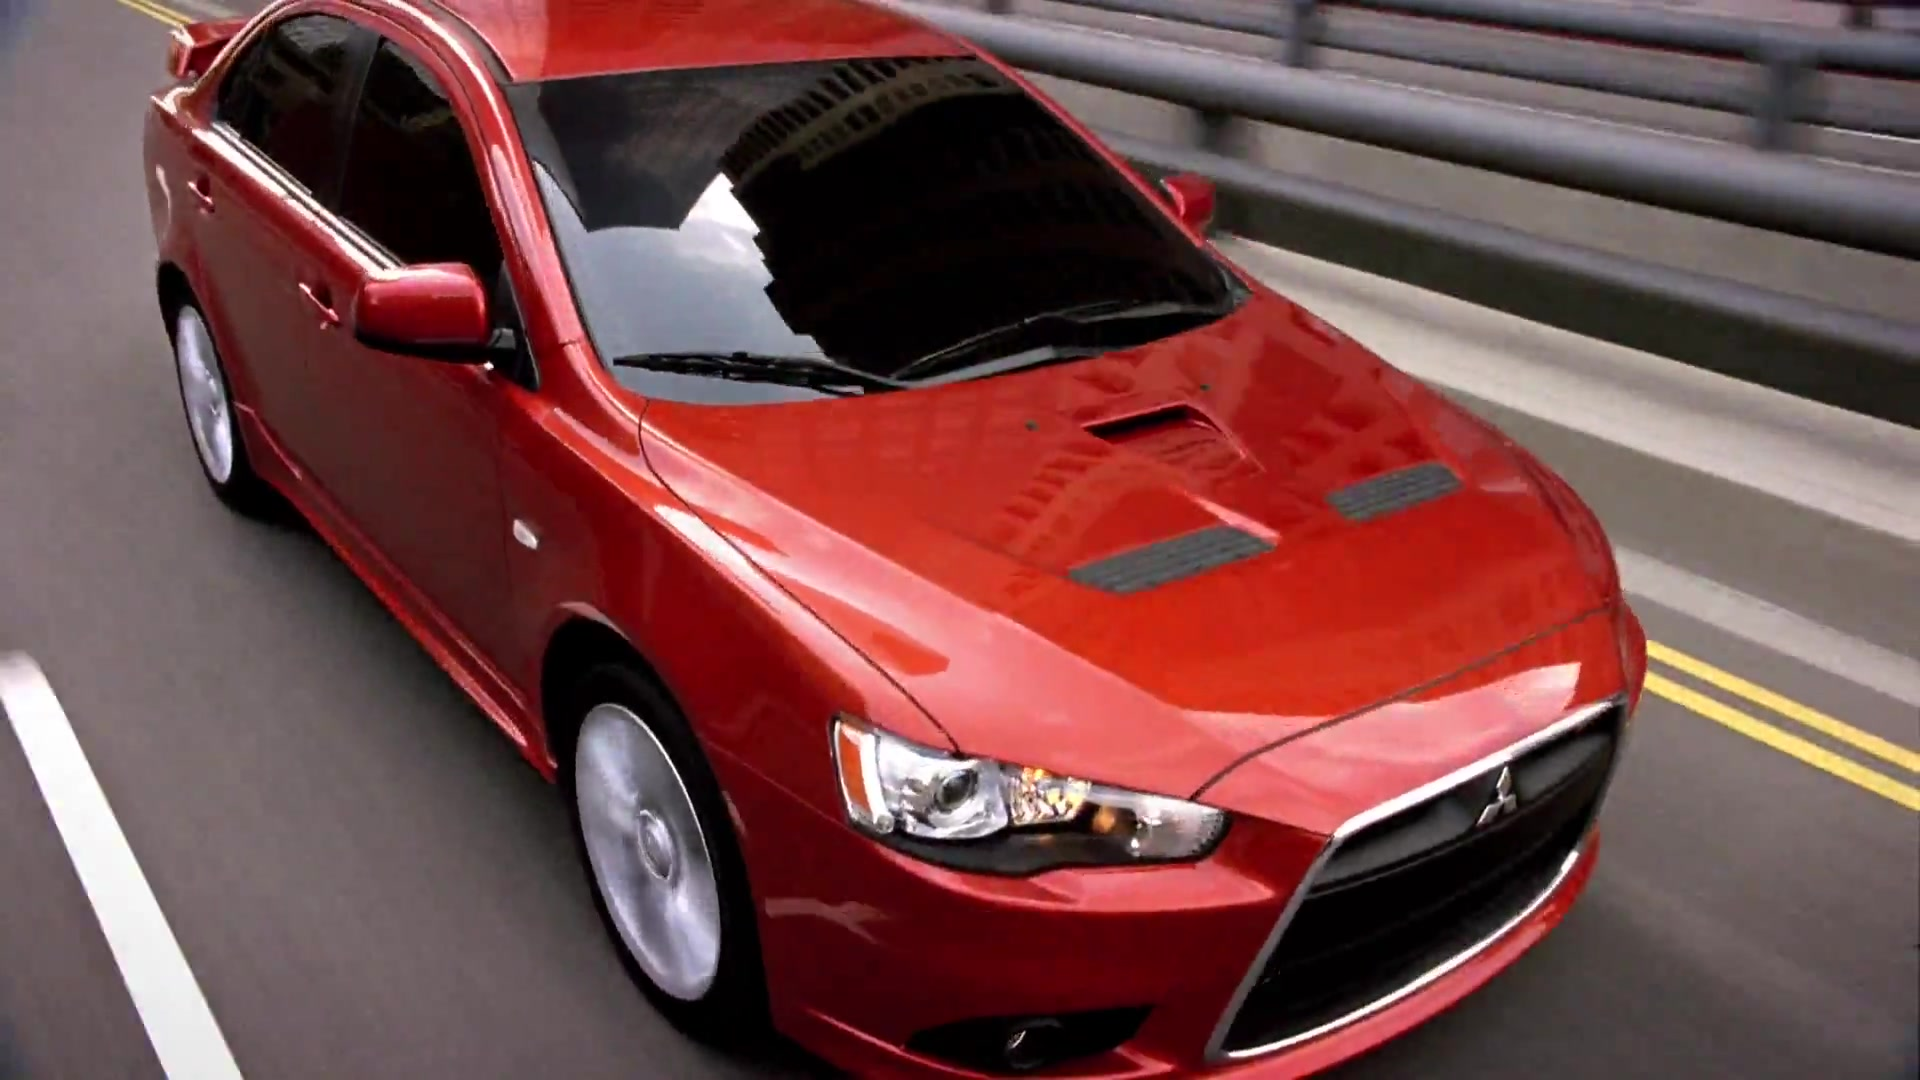car: (145, 7, 1652, 1080)
